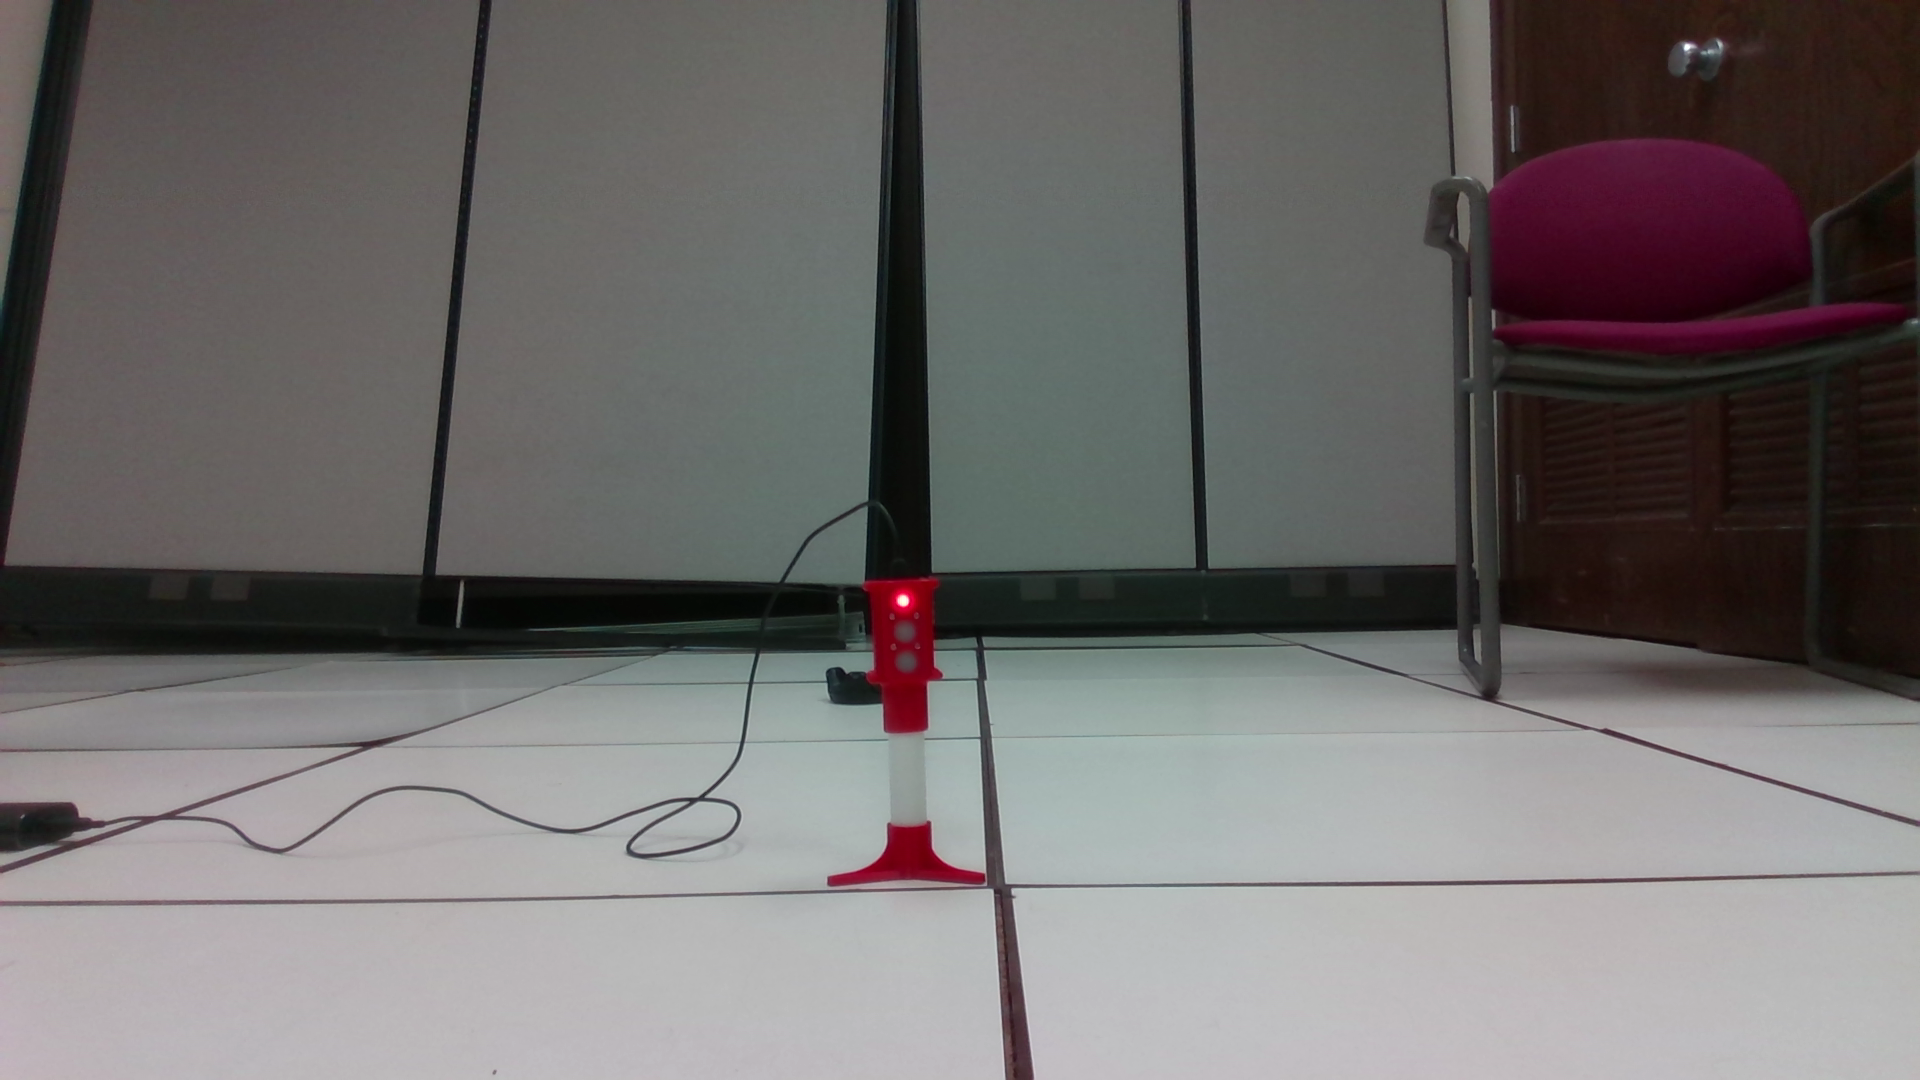stoplight: (860, 583, 944, 729)
